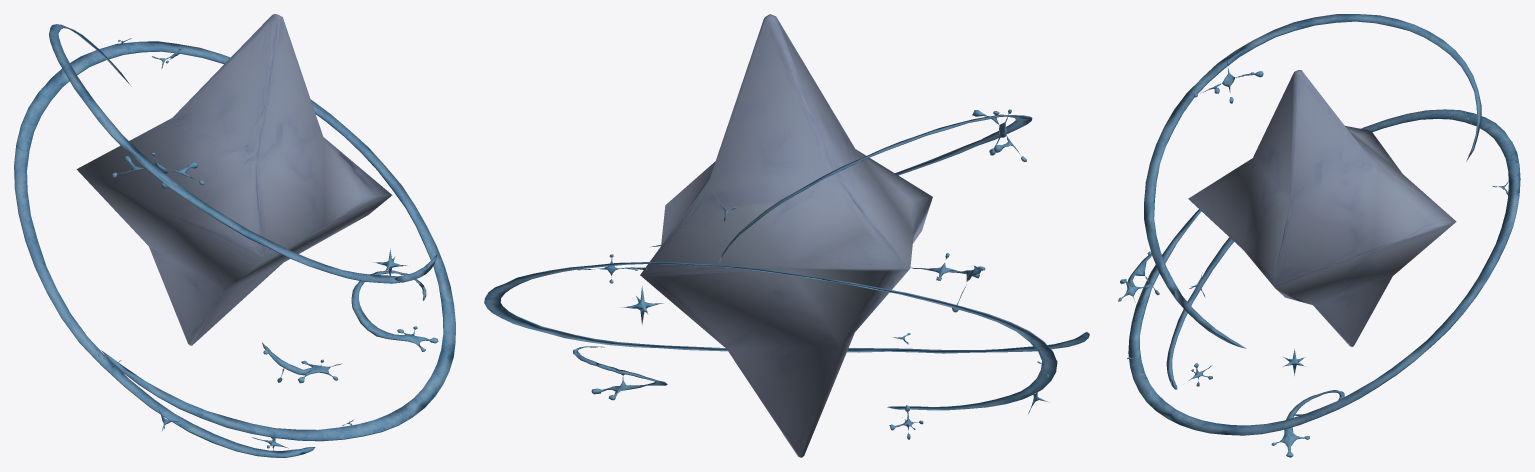
The model's file is ghost.glb.
3 views of the same model, side by side, from view 1: azimuth 30°, elevation 25°; view 2: azimuth 150°, elevation 25°; view 3: azimuth 270°, elevation 25° (orthographic). The views are drawn at different scales.
Parts seen in each view (by area): view 1: tripo_node_06f6ff75-2860-41c5-aefa-909bd1d08cb4; view 2: tripo_node_06f6ff75-2860-41c5-aefa-909bd1d08cb4; view 3: tripo_node_06f6ff75-2860-41c5-aefa-909bd1d08cb4.
Boxes of the visible parts, box(x1,y1,x2,y2) form: tripo_node_06f6ff75-2860-41c5-aefa-909bd1d08cb4: box(14, 14, 455, 457); tripo_node_06f6ff75-2860-41c5-aefa-909bd1d08cb4: box(484, 14, 1089, 457); tripo_node_06f6ff75-2860-41c5-aefa-909bd1d08cb4: box(1118, 14, 1520, 457).
Bounding box in the file's own units: 1.12 × 1 × 1.07.
1 material, 1 textured.
